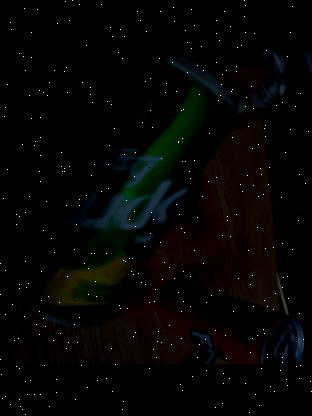Can: (24, 74, 209, 318)
